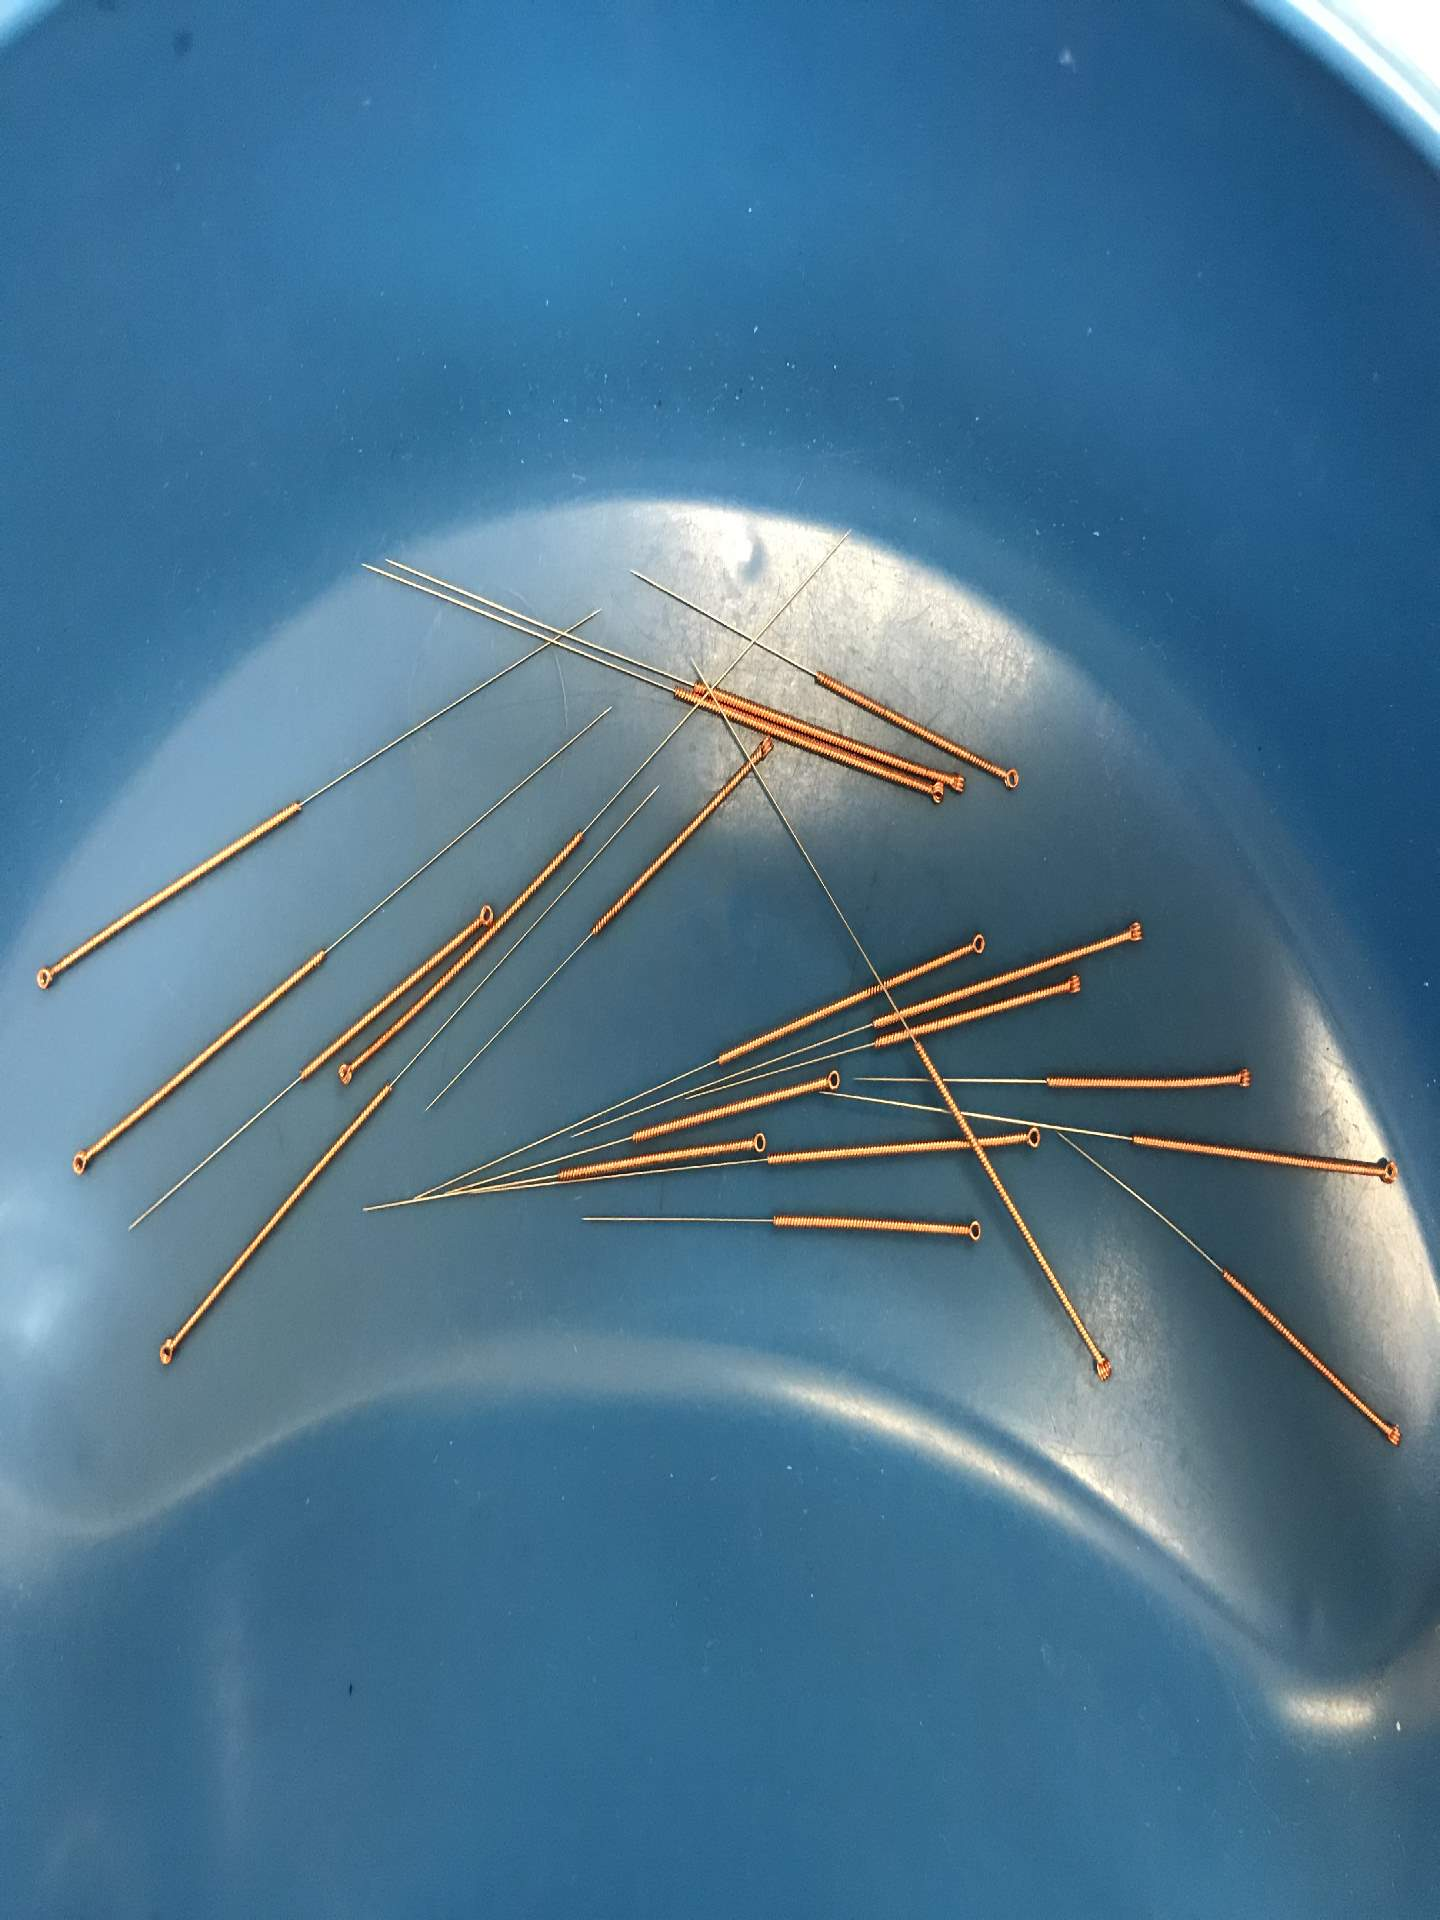needle: (1085, 1342, 1119, 1389), (26, 958, 64, 999), (64, 1141, 98, 1184), (150, 1330, 185, 1373), (1375, 1414, 1408, 1454), (1222, 1058, 1258, 1095), (330, 1055, 365, 1092), (994, 760, 1027, 798), (815, 1063, 849, 1098), (957, 1212, 989, 1249), (749, 732, 781, 768), (912, 779, 948, 810), (939, 763, 976, 795), (740, 1126, 774, 1158), (962, 927, 992, 963), (1119, 913, 1148, 951), (1015, 1120, 1047, 1154), (1372, 1154, 1404, 1187), (1060, 968, 1088, 1002), (470, 900, 498, 931)
